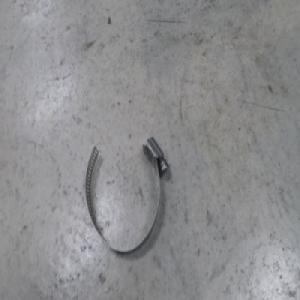AdjustableClamp: (84, 135, 167, 253)
